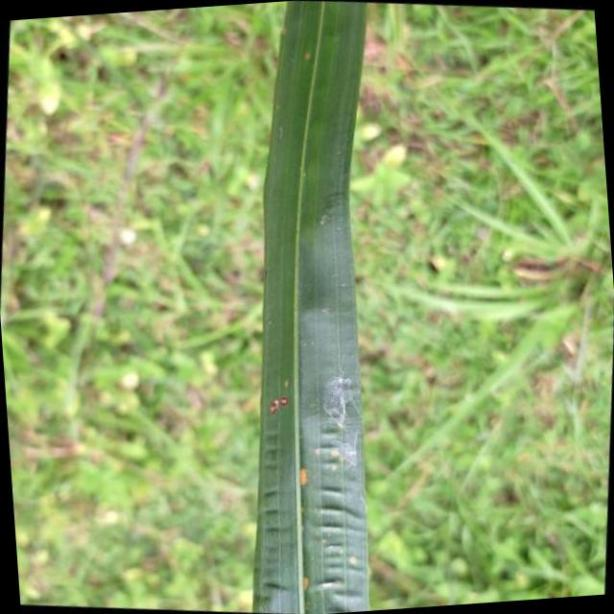Boron: (254, 0, 373, 614)
